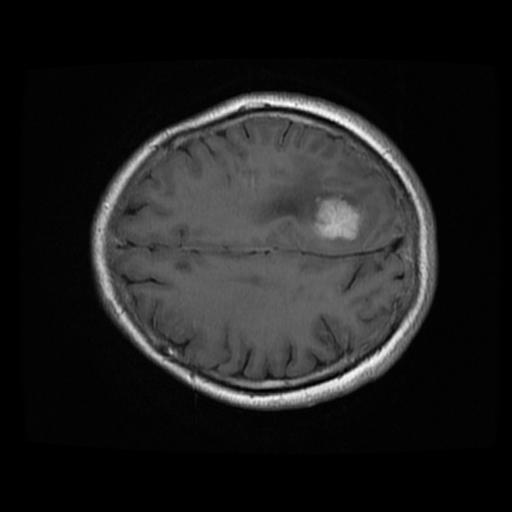meningioma: (312, 197, 360, 240)
